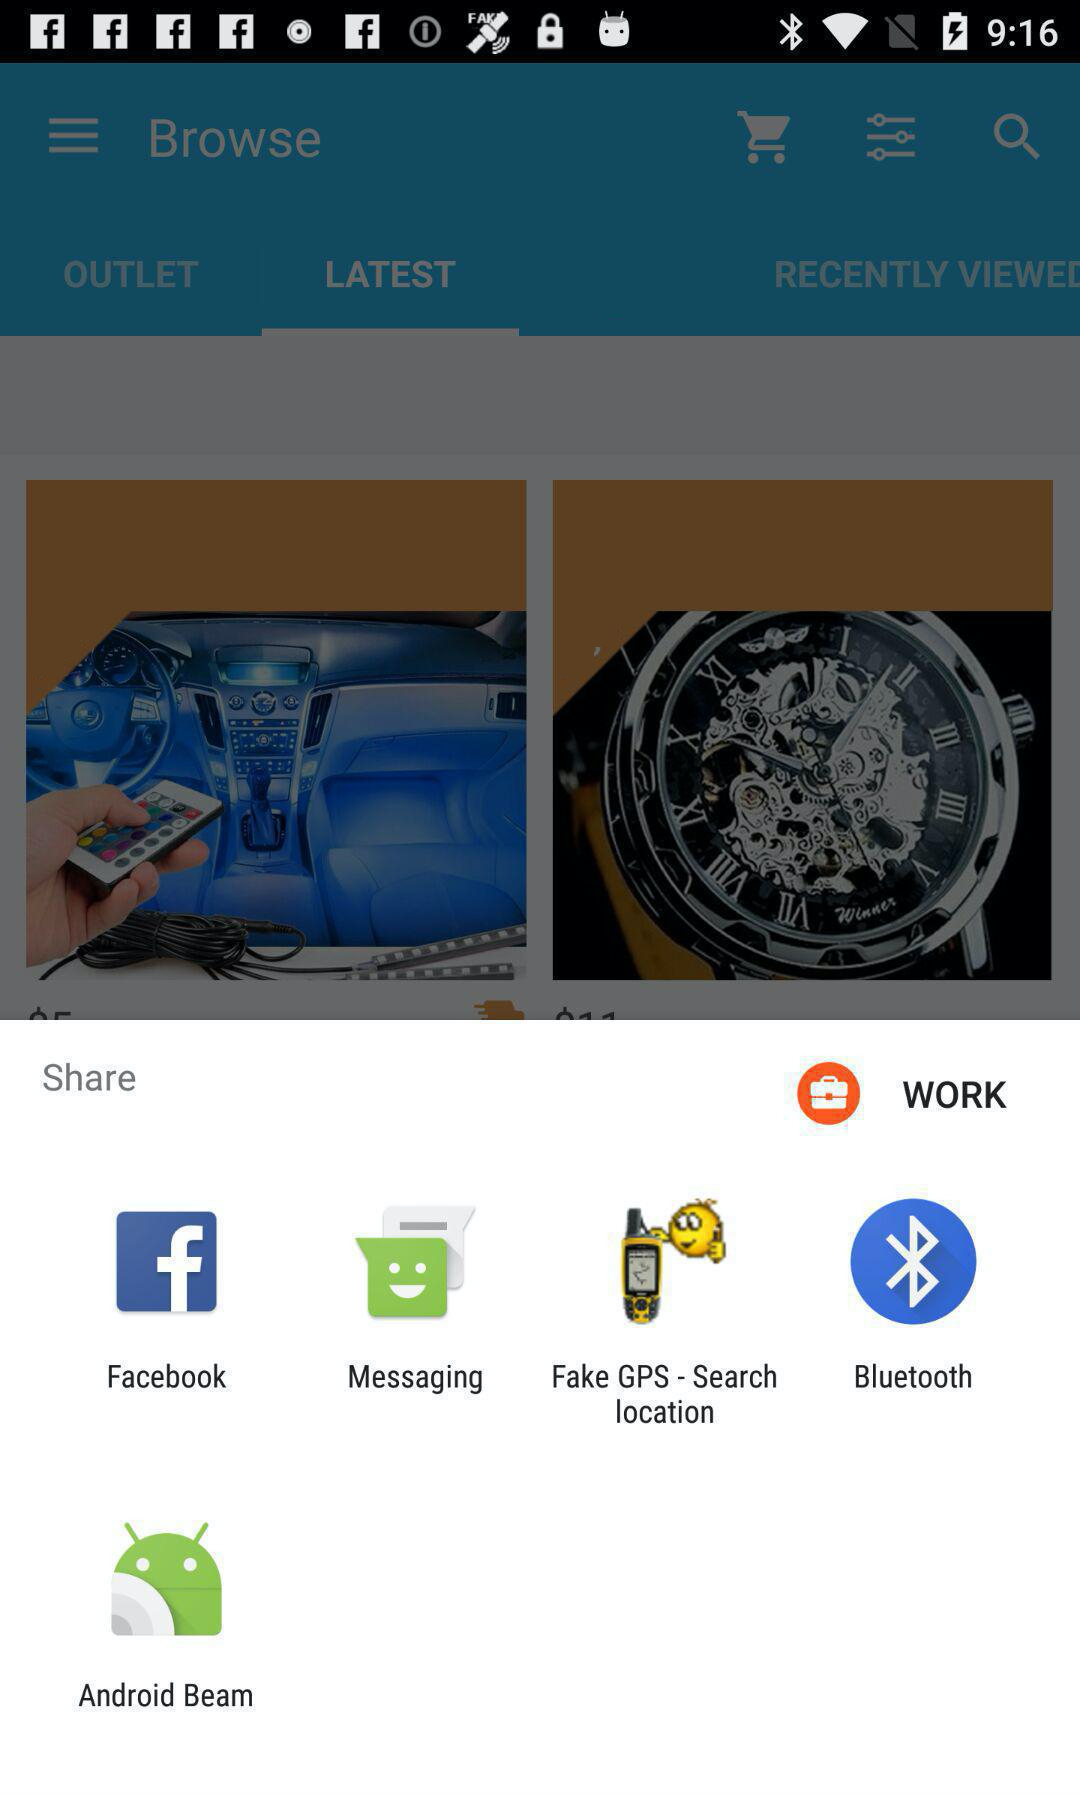Icon: (849, 1197, 978, 1326), (117, 1211, 218, 1313), (796, 1061, 862, 1126), (735, 111, 790, 167), (866, 113, 917, 164), (993, 113, 1042, 161), (47, 117, 100, 156)
Image: (26, 613, 527, 980), (552, 613, 1051, 982), (619, 1196, 729, 1328), (354, 1205, 479, 1320), (111, 1521, 223, 1636)
Modal: (1, 1020, 1080, 1794)
Text: (552, 1362, 778, 1425), (775, 261, 1080, 290), (149, 119, 322, 159), (79, 1681, 254, 1708), (348, 1363, 484, 1395), (65, 260, 201, 290), (327, 260, 457, 290), (108, 1362, 228, 1390), (855, 1362, 972, 1390), (902, 1080, 1008, 1110), (44, 1062, 137, 1093)
UpperTaskBar: (1, 1, 1080, 64)
